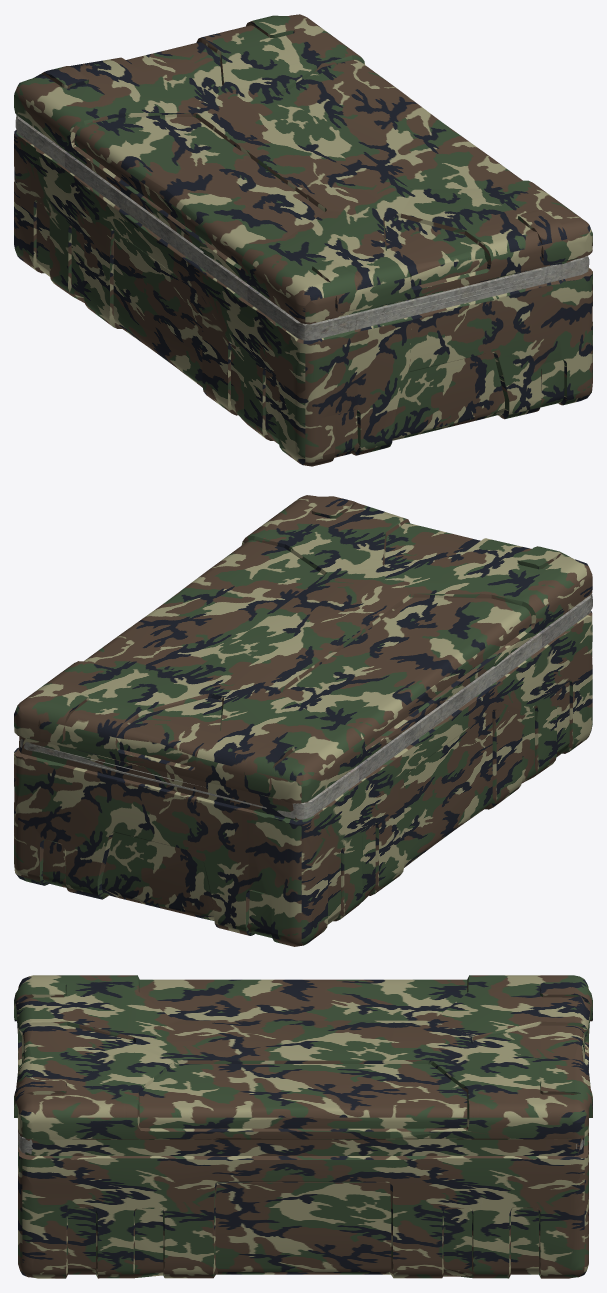
The model's file is box_medium.FBX.
3 views of the same model, one above another, from view 1: azimuth 30°, elevation 25°; view 2: azimuth 150°, elevation 25°; view 3: azimuth 270°, elevation 25° (orthographic). The views are drawn at different scales.
Parts seen in each view (by area): view 1: BoxA_3; view 2: BoxA_3; view 3: BoxA_3.
Boxes of the visible parts, box(x1,y1,x2,y2) form: BoxA_3: box(14, 14, 592, 466); BoxA_3: box(14, 495, 592, 946); BoxA_3: box(14, 975, 592, 1278).
Bounding box in the file's own units: 1.06 × 0.6293 × 1.86.
